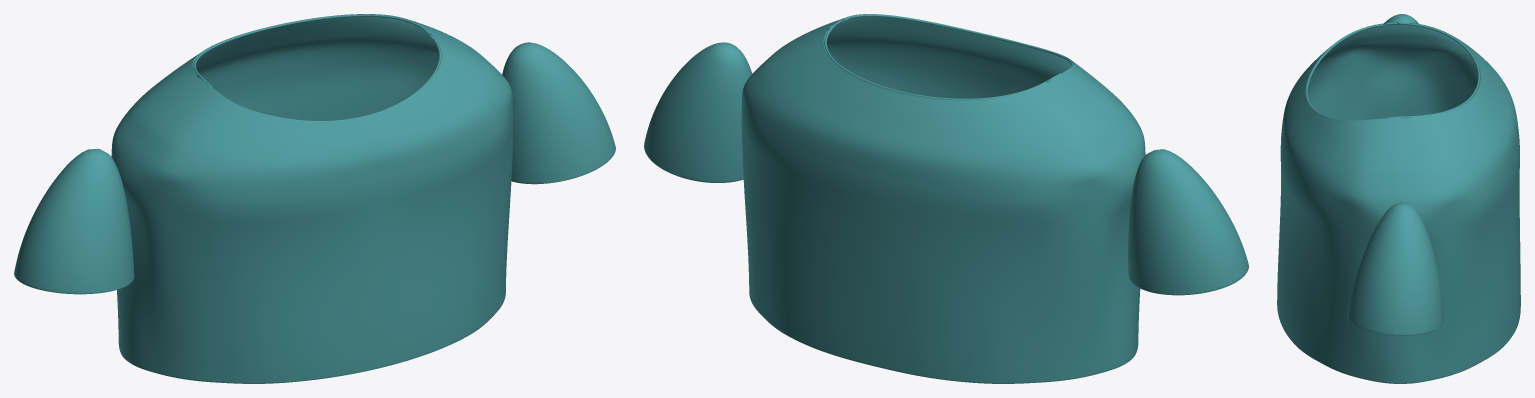
Rendered from Masculine-tshirt-top.glb.
3 renders of one model, left to right at view 1: azimuth 30°, elevation 25°; view 2: azimuth 150°, elevation 25°; view 3: azimuth 270°, elevation 25°, orthographic. The views are drawn at different scales.
Parts seen in each view (by area): view 1: Clothing / closed torso201 tshirt, Sleeve / full fabric wrap201 -1, Sleeve / full fabric wrap201 1, Neckline / seated181 export; view 2: Clothing / closed torso201 tshirt, Sleeve / full fabric wrap201 -1, Sleeve / full fabric wrap201 1, Neckline / seated181 export; view 3: Clothing / closed torso201 tshirt, Sleeve / full fabric wrap201 1, Neckline / seated181 export, Sleeve / full fabric wrap201 -1.
Boxes of the visible parts, x1,y1,x2,y2 form: Clothing / closed torso201 tshirt: (111,14,513,383); Sleeve / full fabric wrap201 -1: (14,148,134,293); Sleeve / full fabric wrap201 1: (502,42,615,183); Neckline / seated181 export: (193,14,441,121); Clothing / closed torso201 tshirt: (741,14,1145,383); Sleeve / full fabric wrap201 -1: (1128,149,1248,294); Sleeve / full fabric wrap201 1: (644,42,752,182); Neckline / seated181 export: (824,14,1073,100); Clothing / closed torso201 tshirt: (1277,23,1520,383); Sleeve / full fabric wrap201 1: (1347,202,1443,335); Neckline / seated181 export: (1306,22,1480,120); Sleeve / full fabric wrap201 -1: (1384,14,1418,23).
Size of the model in its own units: 1.08 by 0.4626 by 0.4348.
